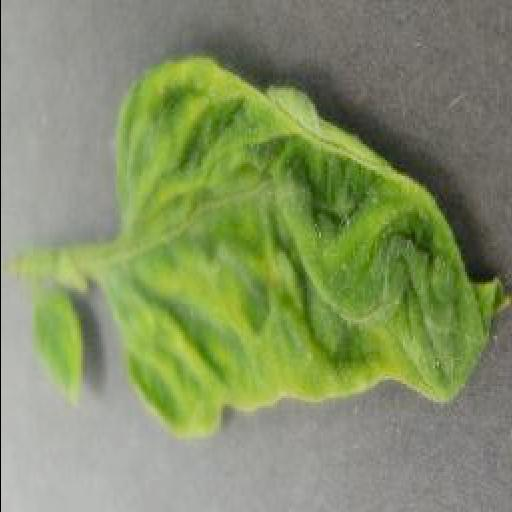disease_tomato: (108, 54, 506, 438), (30, 292, 88, 414)
